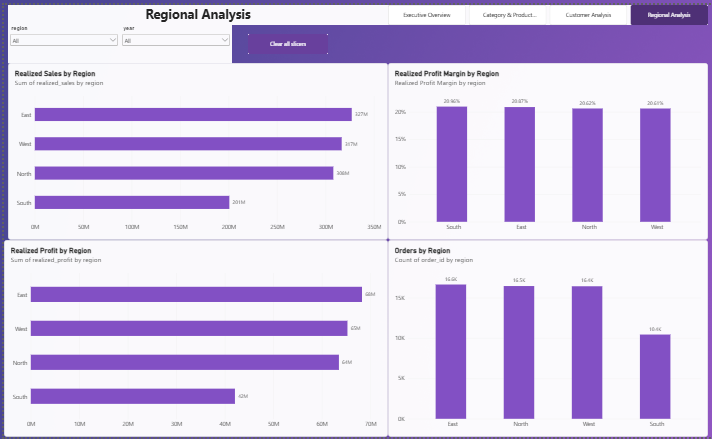

This screenshot's page, from the dashboard's own definition file:
{"tool":"powerbi","page":{"name":"Regional Analysis","canvas":[1920,1080],"ordinal":3},"visuals":[{"type":"textbox","box":[10,0,950,50],"z":0},{"type":"clusteredBarChart","title":"Realized Sales by Region","fields":{"Category":["sales_master.region"],"Y":["Sum(sales_master.realized_sales)"]},"box":[10,146,950,442],"z":1},{"type":"clusteredBarChart","title":"Realized Profit by Region","fields":{"Category":["sales_master.region"],"Y":["Sum(sales_master.realized_profit)"]},"box":[0,588,960,492],"z":2},{"type":"clusteredColumnChart","title":"Realized Profit Margin by Region","fields":{"Category":["sales_master.region"],"Y":["sales_master.Realized Profit Margin"]},"box":[960,146,800,442],"z":3},{"type":"clusteredColumnChart","title":"Orders by Region","fields":{"Category":["sales_master.region"],"Y":["CountNonNull(sales_master.order_id)"]},"box":[960,588,800,492],"z":4},{"type":"slicer","fields":{"Values":["sales_master.region"]},"box":[10,50,280,96],"z":5},{"type":"slicer","fields":{"Values":["sales_master.year"]},"box":[290,50,280,96],"z":6},{"type":"pageNavigator","box":[960,0,800,50],"z":7},{"type":"actionButton","box":[610,72,200,50],"z":8}]}

Visuals, with their boxes on the page's 1920x1080 design canvas (x1, y1, x2, y2). These are canvas units, not pixel positions in the 712x439 screenshot, which may show the page scaled, cropped or inside an application window:
textbox: 10,0,960,50
"Realized Sales by Region" clusteredBarChart: 10,146,960,588
"Realized Profit by Region" clusteredBarChart: 0,588,960,1080
"Realized Profit Margin by Region" clusteredColumnChart: 960,146,1760,588
"Orders by Region" clusteredColumnChart: 960,588,1760,1080
slicer - sales_master.region: 10,50,290,146
slicer - sales_master.year: 290,50,570,146
pageNavigator: 960,0,1760,50
actionButton: 610,72,810,122
